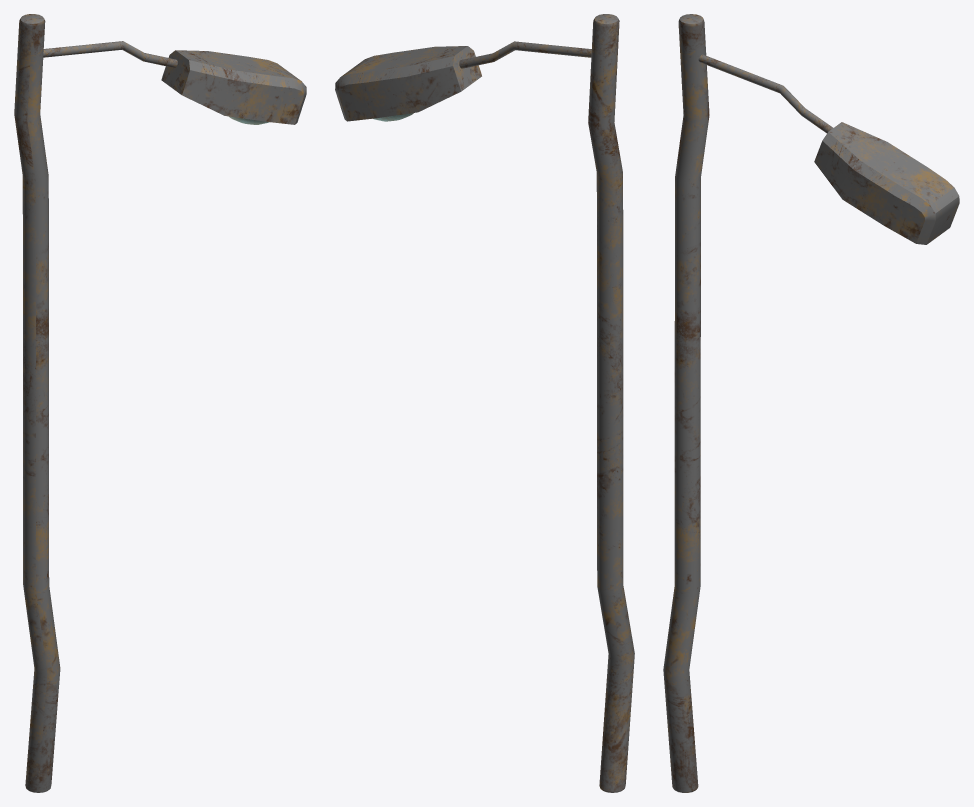
File: tall_lampost_broken.fbx
The picture shows the model from 3 angles, left to right: view 1: azimuth 30°, elevation 25°; view 2: azimuth 150°, elevation 25°; view 3: azimuth 330°, elevation 25°; orthographic projection.
Parts seen in each view (by area): view 1: pCylinder16, pCube16, pCylinder15; view 2: pCylinder16, pCube16, pCylinder15; view 3: pCylinder16, pCube16, pCylinder15.
Part boxes in pixels (x1=…): pCylinder16: x1=14, y1=14, x2=60, y2=792; pCube16: x1=161, y1=50, x2=306, y2=124; pCylinder15: x1=43, y1=41, x2=177, y2=67; pCylinder16: x1=588, y1=14, x2=634, y2=792; pCube16: x1=335, y1=46, x2=481, y2=121; pCylinder15: x1=459, y1=41, x2=591, y2=68; pCylinder16: x1=663, y1=14, x2=709, y2=792; pCube16: x1=814, y1=122, x2=959, y2=244; pCylinder15: x1=698, y1=54, x2=832, y2=133.
Bounding box in the file's own units: 1.53 × 4.15 × 0.352.
